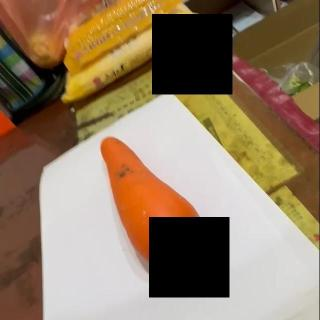carrot: (101, 137, 203, 271)
